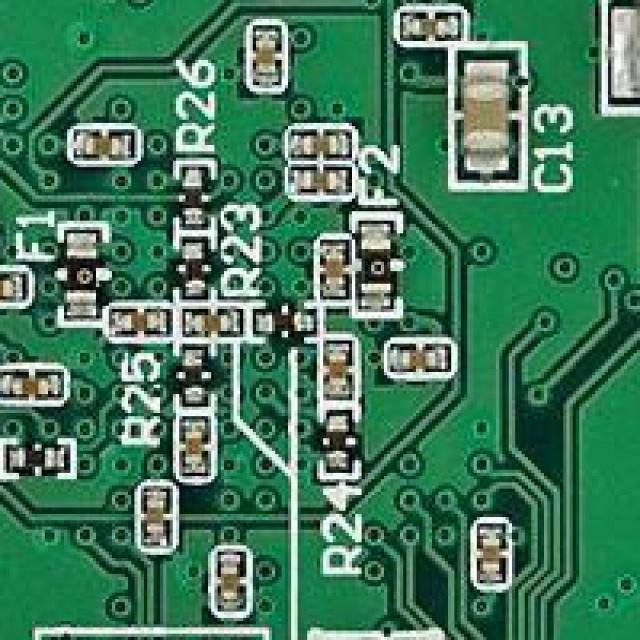capacitor: (451, 44, 522, 183), (598, 0, 640, 107), (180, 302, 247, 343), (313, 630, 435, 640)
inductor: (349, 208, 397, 315), (58, 220, 106, 322)
resistor: (314, 400, 358, 476), (170, 344, 211, 413), (246, 302, 320, 340), (0, 438, 74, 476), (176, 154, 211, 227), (176, 227, 214, 293)
unknown: (378, 331, 454, 378), (240, 16, 288, 88), (470, 514, 516, 586), (282, 116, 355, 160), (172, 413, 218, 479), (314, 328, 355, 400), (64, 123, 138, 161), (314, 230, 352, 303), (138, 476, 176, 549), (211, 542, 250, 612), (0, 360, 67, 400), (288, 157, 358, 195), (397, 3, 467, 38), (106, 303, 176, 334), (0, 264, 29, 302)
